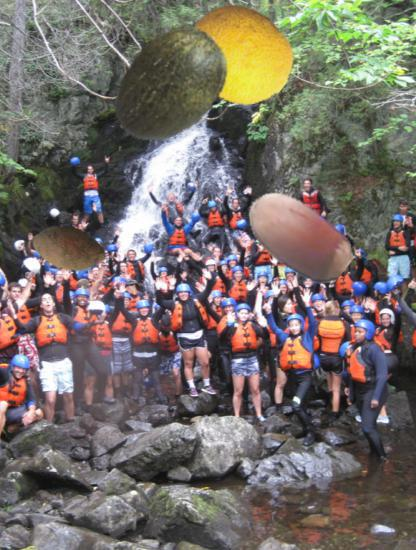Cantaloupe: (185, 3, 293, 111)
Hazelnut: (239, 177, 356, 294)
Melon: (102, 17, 233, 148)
Potato: (30, 209, 108, 287)
